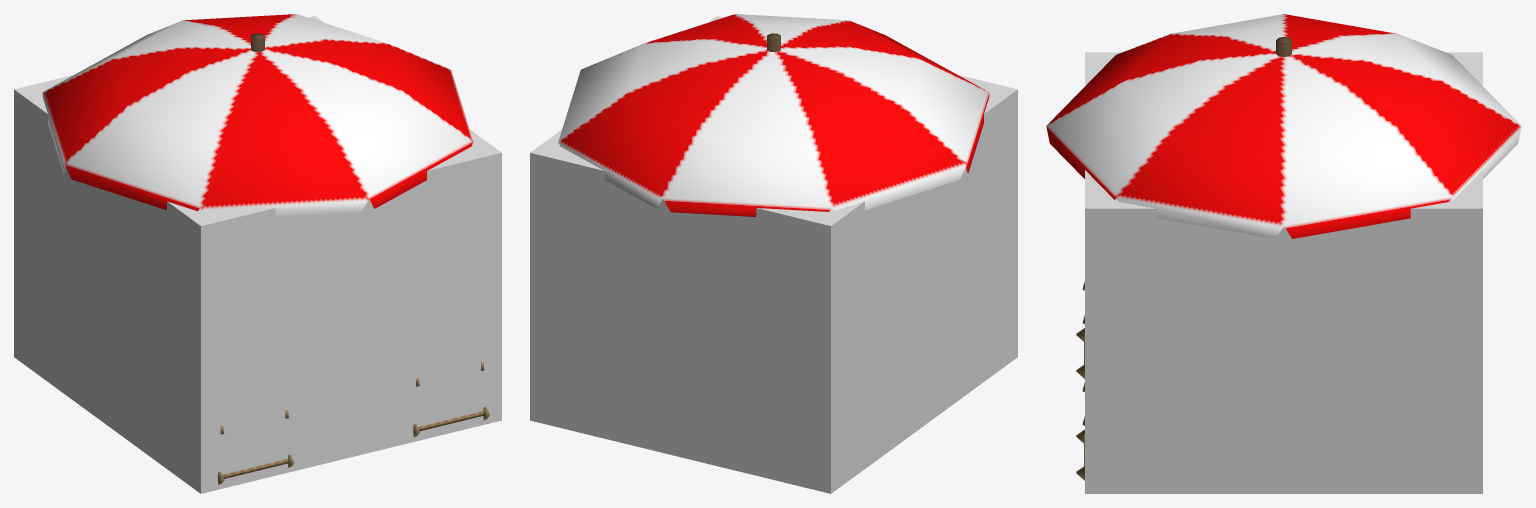
File: Parasol.gltf
3 renders of one model, left to right at view 1: azimuth 30°, elevation 25°; view 2: azimuth 150°, elevation 25°; view 3: azimuth 270°, elevation 25°, orthographic. The views are drawn at different scales.
Visible parts, largest first — view 1: COL1, parasol, chair_02, chair_02.003; view 2: COL1, parasol; view 3: COL1, parasol.
Boxes of the visible parts, x1,y1,x2,y2 form: COL1: (14, 16, 501, 493); parasol: (42, 14, 473, 216); chair_02: (413, 362, 489, 437); chair_02.003: (218, 410, 294, 485); COL1: (530, 16, 1017, 493); parasol: (558, 14, 989, 216); COL1: (1085, 52, 1482, 493); parasol: (1046, 14, 1521, 238).
Bounding box in the file's own units: 3.02 × 2.64 × 3.02.
5 materials, 5 textured.
